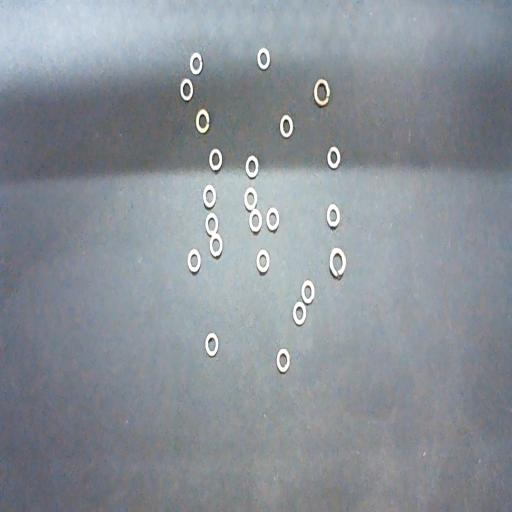washer: (329, 248, 346, 278), (313, 78, 330, 106), (187, 248, 201, 274), (301, 279, 315, 305), (248, 208, 262, 234), (266, 206, 280, 232), (256, 248, 270, 274), (196, 109, 210, 134), (210, 233, 224, 258), (276, 348, 290, 373), (293, 301, 307, 326), (205, 332, 218, 358), (180, 78, 194, 102), (280, 114, 294, 138), (257, 46, 271, 70), (245, 155, 259, 179), (244, 187, 258, 211), (203, 184, 216, 209), (189, 52, 203, 75), (209, 148, 222, 172), (205, 212, 218, 236), (327, 204, 340, 228), (328, 145, 340, 170)
